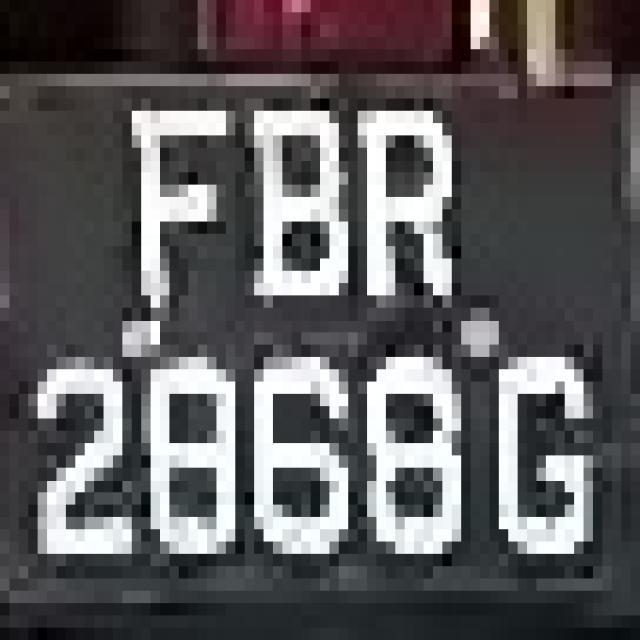2: (19, 320, 141, 578)
6: (245, 308, 376, 603)
8: (122, 295, 245, 603), (348, 344, 471, 578)
B: (216, 49, 339, 369)
F: (94, 37, 226, 332)
G: (489, 283, 612, 579)
R: (320, 37, 489, 332)
